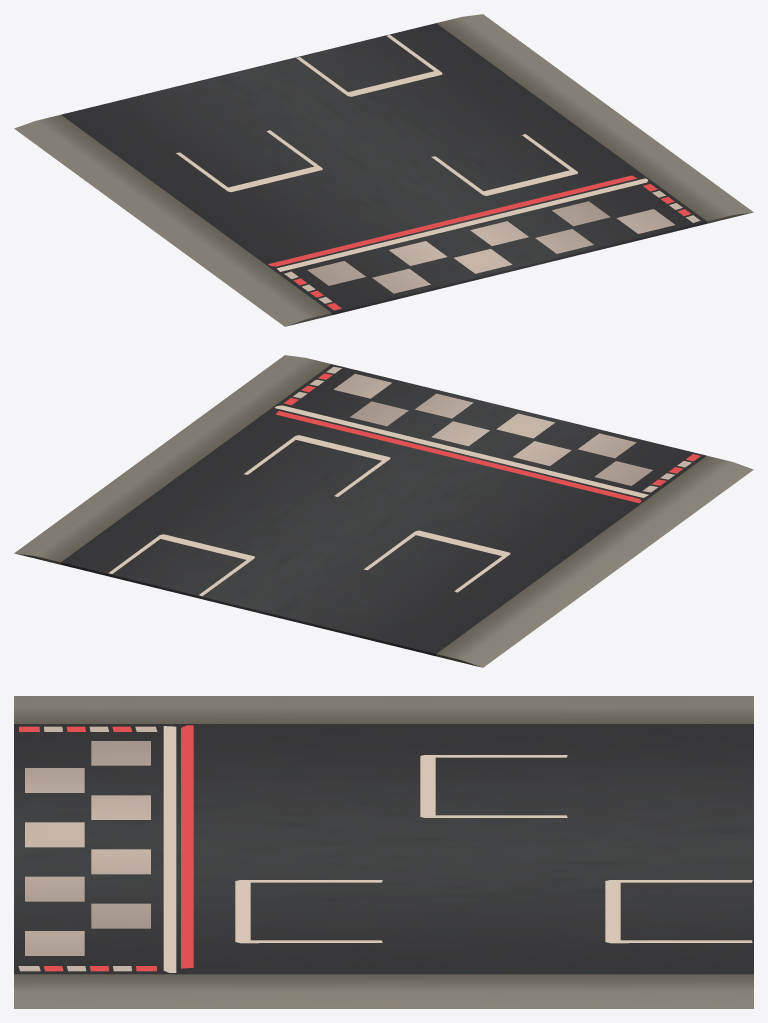
Rendered from Straight_1A.fbx.
The picture shows the model from 3 angles, top to bottom: view 1: azimuth 30°, elevation 25°; view 2: azimuth 150°, elevation 25°; view 3: azimuth 270°, elevation 25°; orthographic projection. The views are drawn at different scales.
Parts seen in each view (by area): view 1: Straight_1A; view 2: Straight_1A; view 3: Straight_1A.
Boxes of the visible parts, x1,y1,x2,y2 form: Straight_1A: (14,14,753,326); Straight_1A: (14,355,753,667); Straight_1A: (14,696,753,1008).
Size of the model in its own units: 2000 by 10.4 by 2000.
